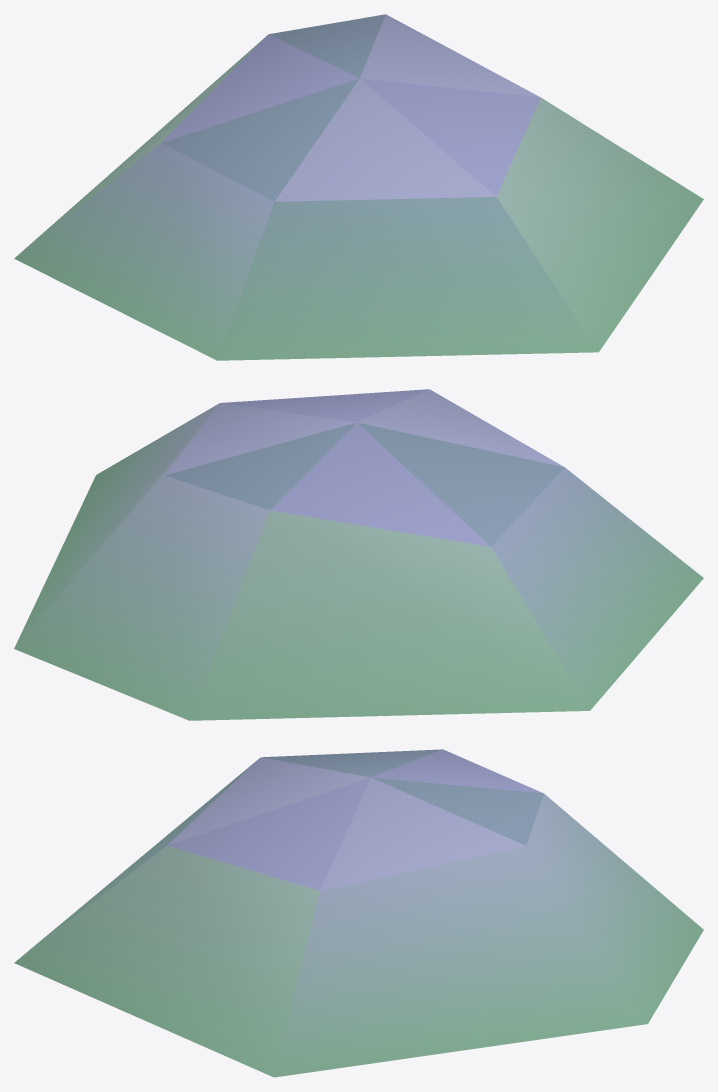
Rendered from bluebell_patch_a_far.glb.
3 renders of one model, top to bottom at view 1: azimuth 30°, elevation 25°; view 2: azimuth 150°, elevation 25°; view 3: azimuth 270°, elevation 25°, orthographic. The views are drawn at different scales.
Parts seen in each view (by area): view 1: soft; view 2: soft; view 3: soft.
Boxes of the visible parts, x1,y1,x2,y2 form: soft: (14, 14, 703, 360); soft: (14, 389, 703, 720); soft: (14, 749, 703, 1077).
Bounding box in the file's own units: 0.8543 × 0.222 × 0.8863.
